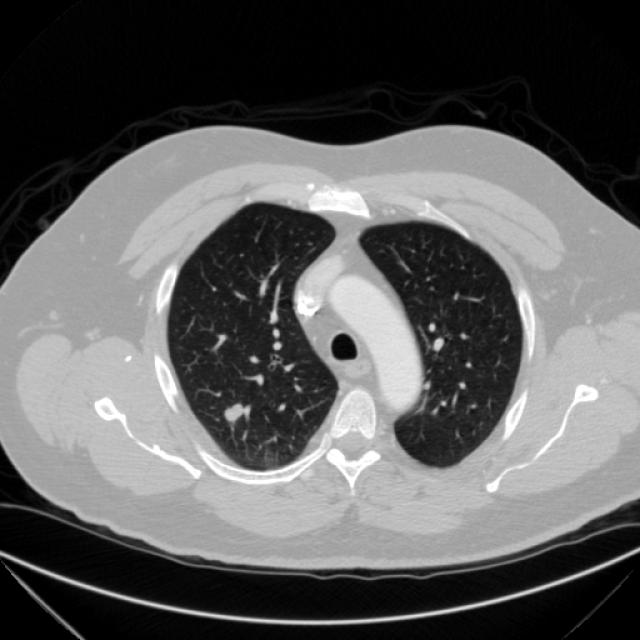nodule: (212, 391, 252, 431)
